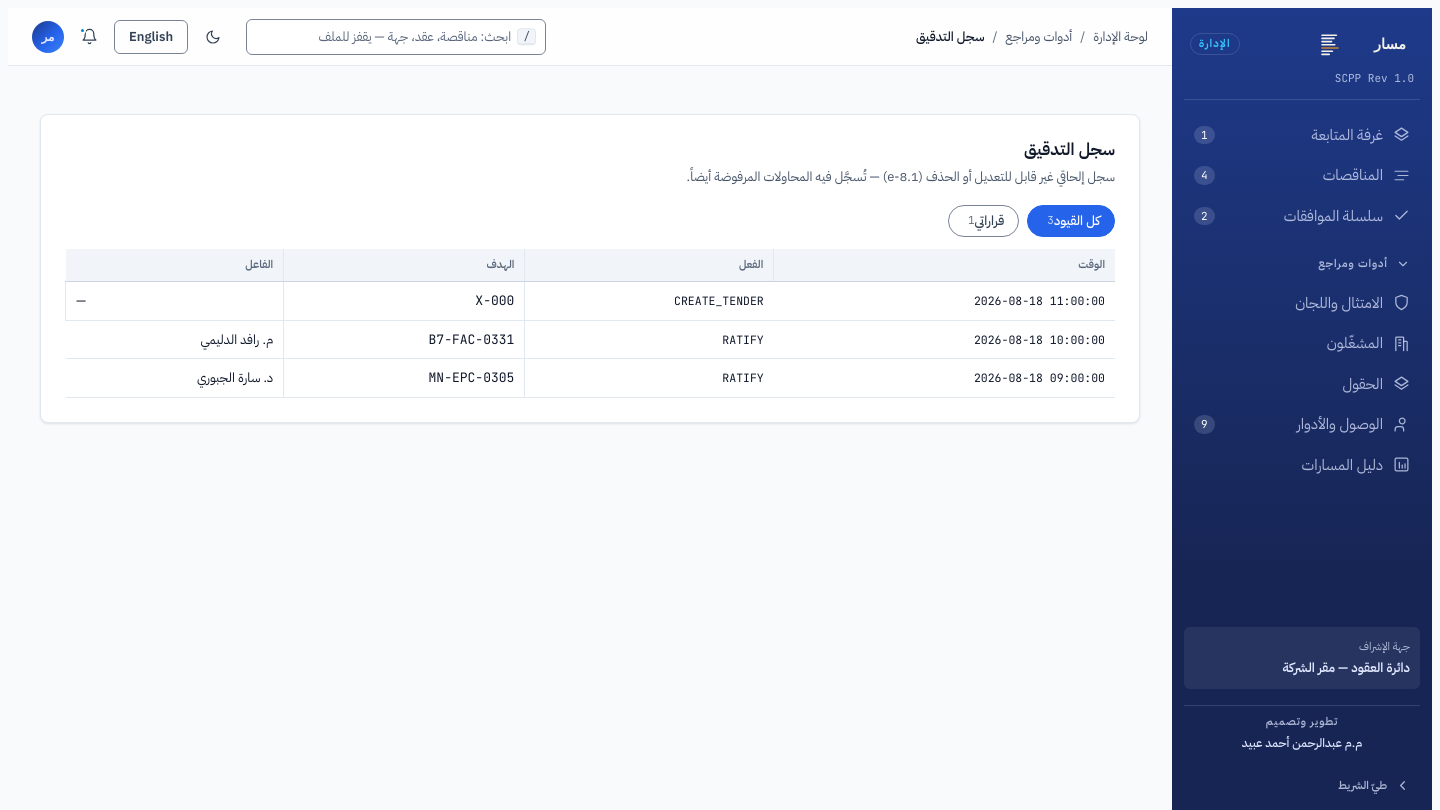
Test case: «سجل قراراتي» is a filter on the durable trail, not a session memory (ل4 / س‌ل5) › claims no unattributed row: a log entry that cannot say whose it is, is not mine
Step 1. Click the button "قراراتي 1" → [984, 221], box top-left (948, 205), bottom-right (1019, 237)
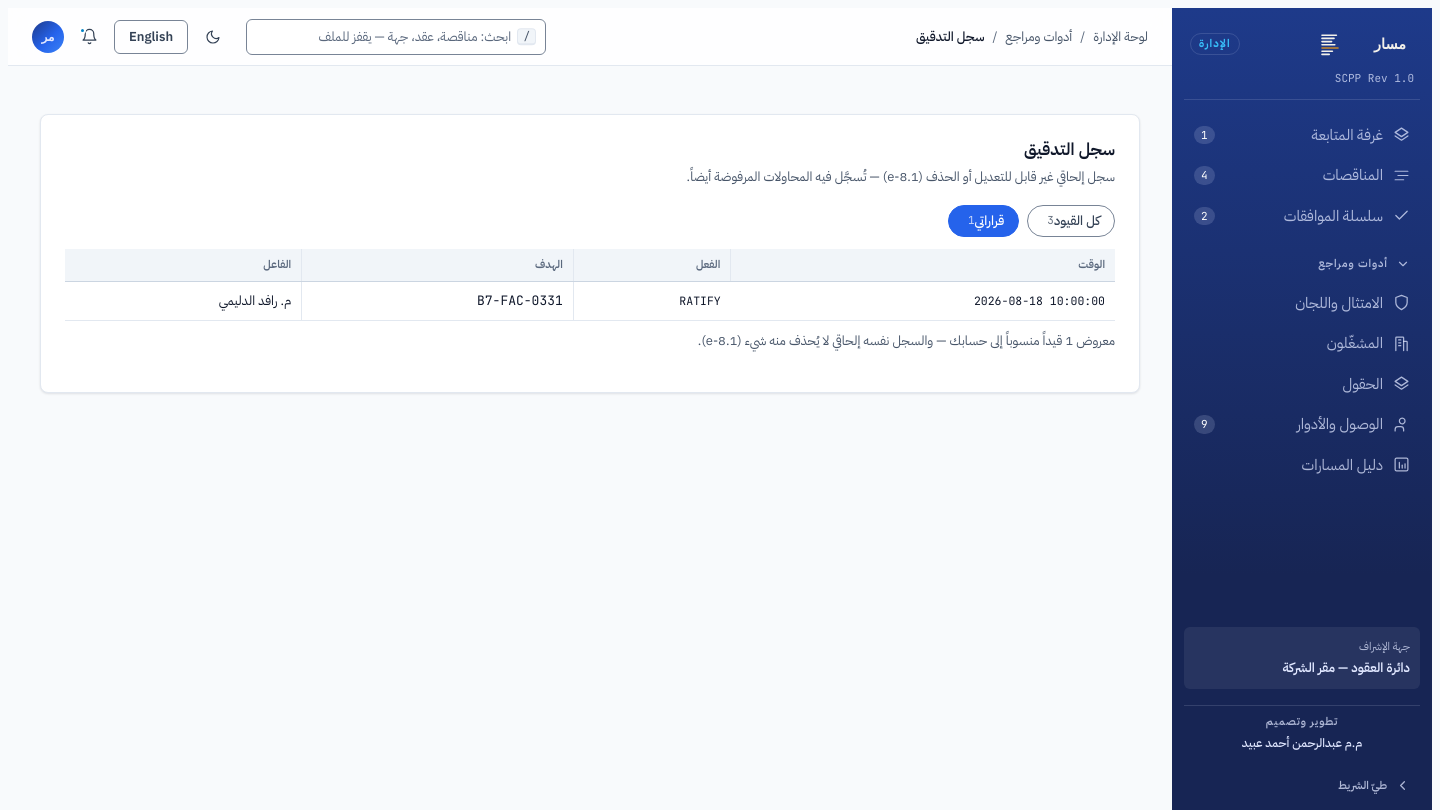
Result: the text "X-000" is gone
